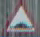Speed Breaker ahead: (4, 1, 39, 35)
